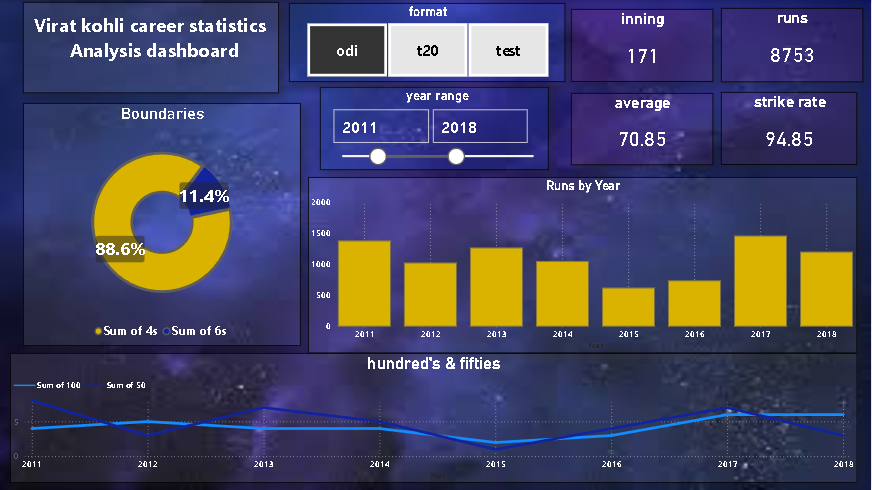

Layout of this report page (visuals, bound fields, positions):
{"tool":"powerbi","page":{"name":"Page 1","canvas":[1280,720],"ordinal":0},"visuals":[{"type":"card","title":"inning ","fields":{"Values":["main  hai.Innings"]},"box":[840.5,13.2,208.7,107.3],"z":0},{"type":"card","title":"runs","fields":{"Values":["main  hai.Runs"]},"box":[1060.9,11.8,208.7,108.7],"z":1000},{"type":"card","title":"average","fields":{"Values":["main  hai.Avg"]},"box":[840.5,136.7,208.7,105.8],"z":2000},{"type":"card","title":"strike rate ","fields":{"Values":["main  hai.SR"]},"box":[1060.9,135.2,199.8,107.3],"z":3000},{"type":"slicer","title":"year range ","fields":{"Values":["main  hai.Year"]},"box":[471.7,127.8,336.5,122],"z":4000},{"type":"slicer","title":"format","fields":{"Values":["main  hai.format"]},"box":[426.1,4.4,405.6,116.1],"z":5000},{"type":"donutChart","title":"Boundaries","fields":{"Y":["main  hai.4s","main  hai.6s"]},"box":[16.2,151.3,427.6,357.1],"z":6000},{"type":"columnChart","title":" Runs by Year","fields":{"Y":["main  hai.Runs"],"Category":["main  hai.Year"]},"box":[454,260.1,806.7,258.6],"z":7000},{"type":"lineChart","title":"hundred''s & fifties","fields":{"Category":["main  hai.Year"],"Y":["main  hai.100","main  hai.50"]},"box":[16.2,518.7,1244.6,191],"z":8000},{"type":"textbox","box":[35.3,2.9,376.2,133.7],"z":9000}]}

Visuals, with their boxes in screenshot pixels (x1, y1, x2, y2), scaled from the page's 1280x720 canvas onto the 872x490 screenshot:
"inning " card: select_region(573, 9, 715, 82)
"runs" card: select_region(723, 8, 865, 82)
"average" card: select_region(573, 93, 715, 165)
"strike rate " card: select_region(723, 92, 859, 165)
"year range " slicer: select_region(321, 87, 551, 170)
"format" slicer: select_region(290, 3, 567, 82)
"Boundaries" donutChart: select_region(11, 103, 302, 346)
" Runs by Year" columnChart: select_region(309, 177, 859, 353)
"hundred''s & fifties" lineChart: select_region(11, 353, 859, 483)
textbox: select_region(24, 2, 280, 93)
